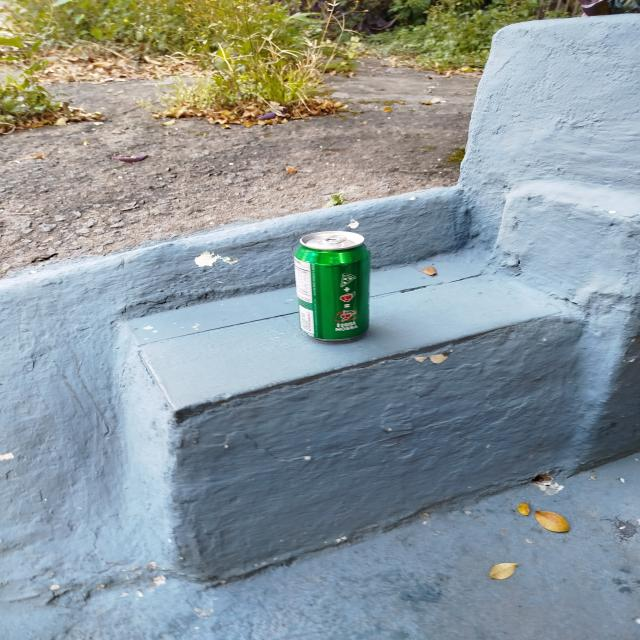Guarana: (292, 230, 370, 342)
